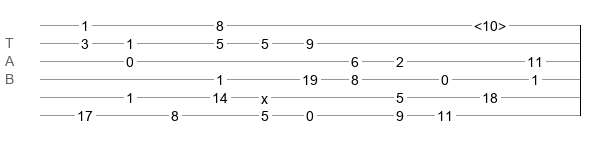0: (126, 54, 134, 64), (306, 108, 314, 118), (441, 72, 449, 82)
1: (81, 18, 89, 28), (126, 36, 134, 46), (126, 90, 134, 100), (216, 72, 224, 82), (531, 72, 539, 82)
11: (437, 108, 453, 118), (527, 54, 543, 64)
14: (212, 90, 228, 100)
17: (77, 108, 93, 118)
18: (482, 90, 498, 100)
19: (302, 72, 318, 82)
2: (396, 54, 404, 64)
3: (81, 36, 89, 46)
5: (216, 36, 224, 46), (261, 108, 269, 118), (261, 36, 269, 46), (396, 90, 404, 100)
6: (351, 54, 359, 64)
8: (171, 108, 179, 118), (216, 18, 224, 28), (351, 72, 359, 82)
9: (306, 36, 314, 46), (396, 108, 404, 118)
harmonic: (474, 18, 506, 28)
x: (261, 91, 268, 99)
